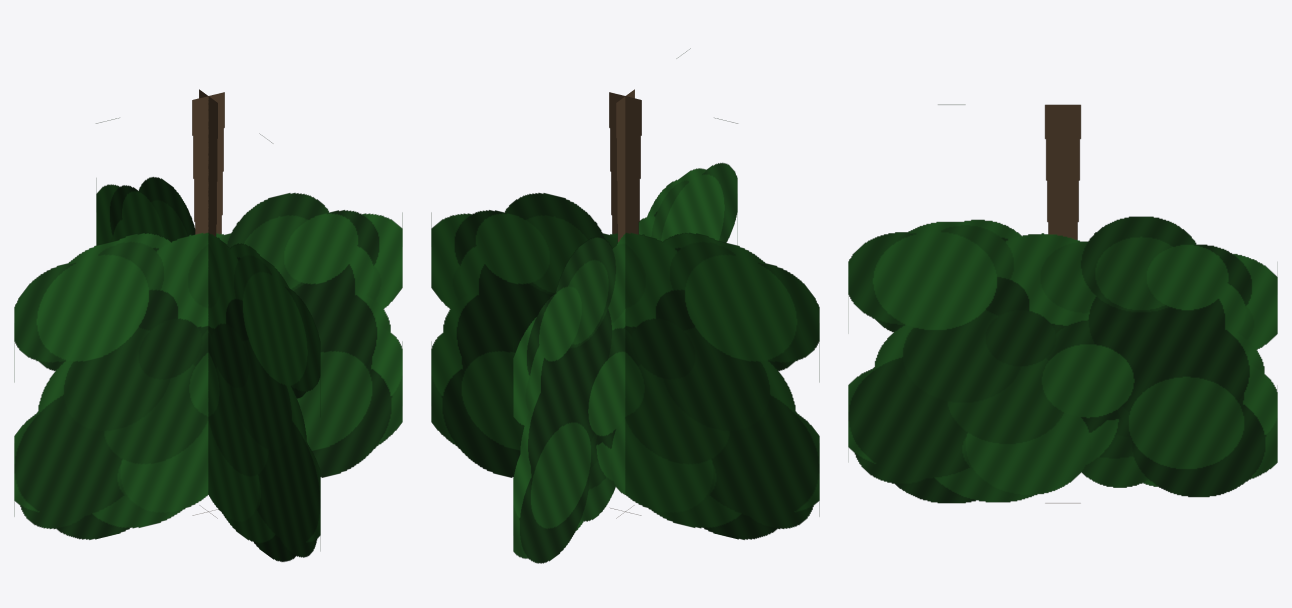
The model's file is oak_lod3.glb.
3 renders of one model, left to right at view 1: azimuth 30°, elevation 25°; view 2: azimuth 150°, elevation 25°; view 3: azimuth 270°, elevation 25°, orthographic. The views are drawn at different scales.
Parts seen in each view (by area): view 1: oak_lod3_leaves; view 2: oak_lod3_leaves; view 3: oak_lod3_leaves.
Part boxes in pixels (<box>): oak_lod3_leaves: <box>14,89,402,561</box>; oak_lod3_leaves: <box>431,48,819,563</box>; oak_lod3_leaves: <box>848,104,1277,503</box>.
Bounding box in the file's own units: 21.2 × 21.7 × 21.2.
Materials: 1 (1 with a texture image).
